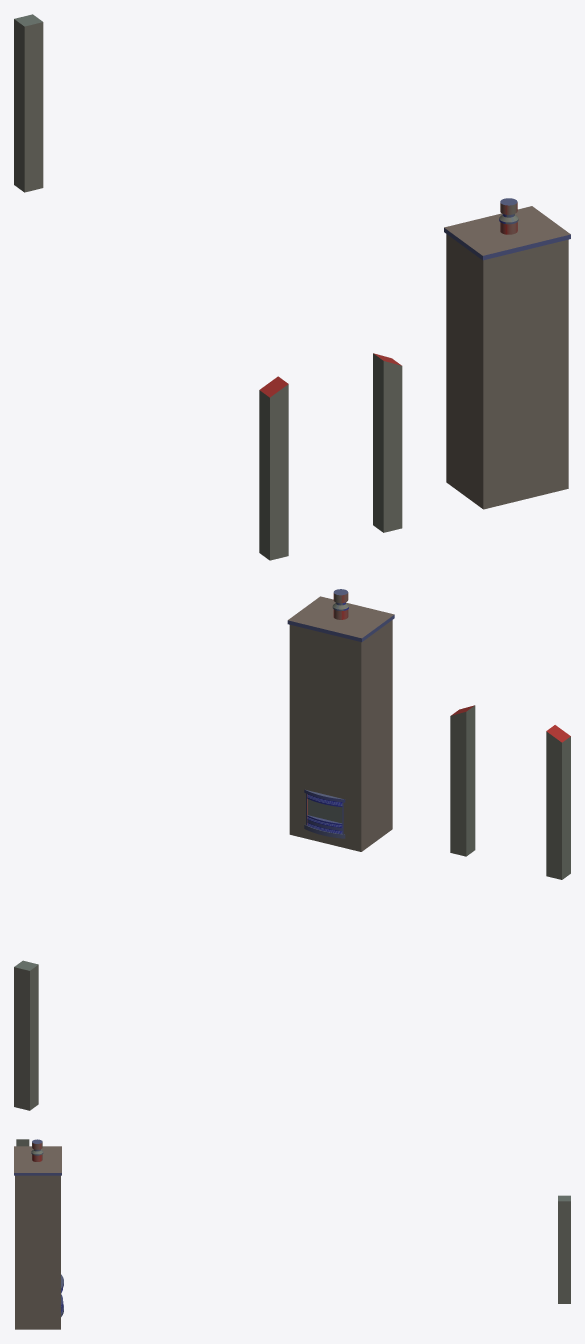
The model's file is Ext_Mis.fbx.
3 views of the same model, one above another, from view 1: azimuth 30°, elevation 25°; view 2: azimuth 150°, elevation 25°; view 3: azimuth 270°, elevation 25° (orthographic). The views are drawn at different scales.
Parts seen in each view (by area): view 1: Ext_Mis; view 2: Ext_Mis; view 3: Ext_Mis.
Boxes of the visible parts, x1=… form: Ext_Mis: x1=14, y1=14, x2=570, y2=560; Ext_Mis: x1=14, y1=589, x2=570, y2=1110; Ext_Mis: x1=14, y1=1139, x2=570, y2=1329.
Size of the model in its own units: 516 by 468 by 1346.
